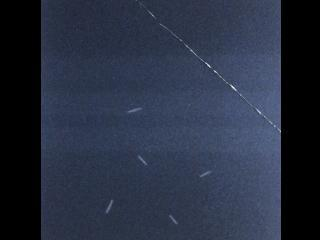crack: (137, 0, 282, 133)
scratch: (98, 195, 120, 220), (131, 151, 155, 172), (121, 101, 147, 120), (192, 165, 218, 184), (163, 211, 186, 228)
